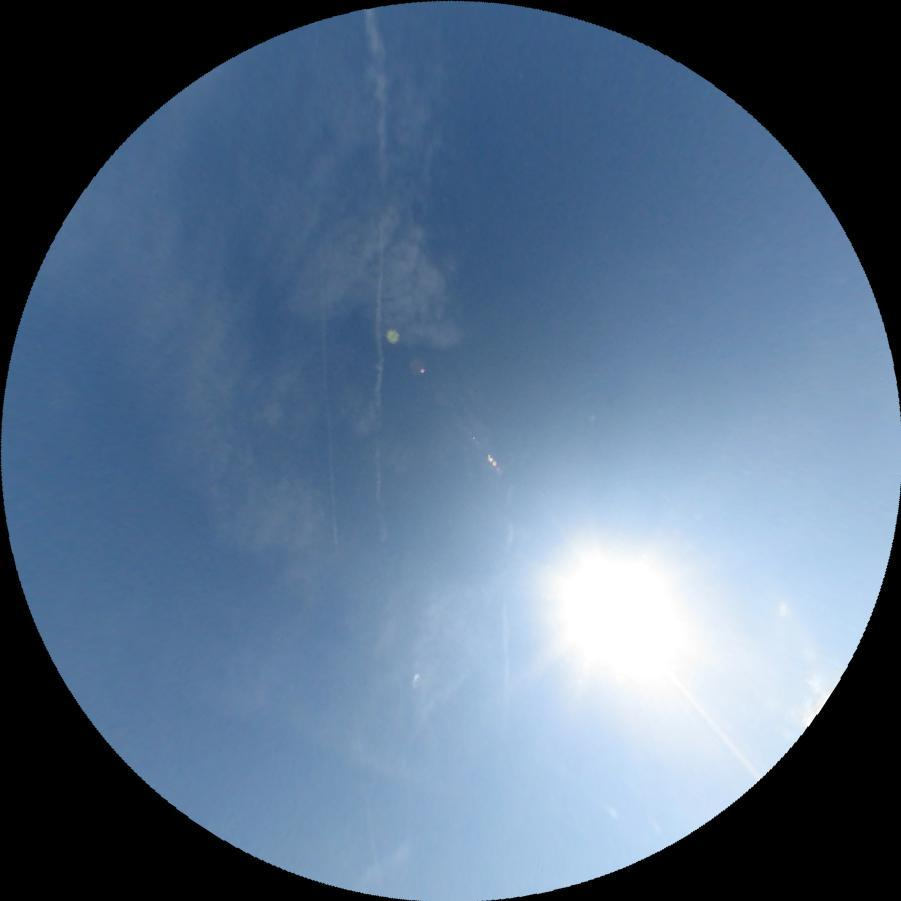contrail old: (317, 243, 336, 539), (500, 597, 510, 712)
contrail veryold: (361, 7, 388, 542)
contrail young: (358, 730, 380, 873)
parasite: (661, 663, 762, 780)
sun: (548, 548, 691, 685)
